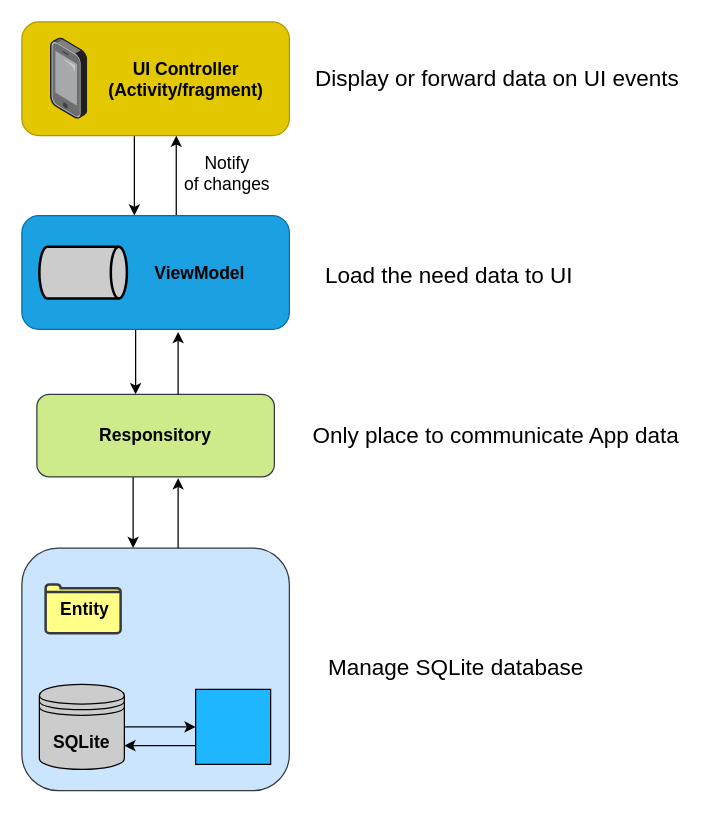
The diagram is 706 pixels wide and 813 high, and some of its shapes have lost their labels. The box of each missing label's shape, as (x1, y1, x2, y2) in pixels:
DAO: (194, 688, 271, 764)
Data: (38, 245, 128, 299)
